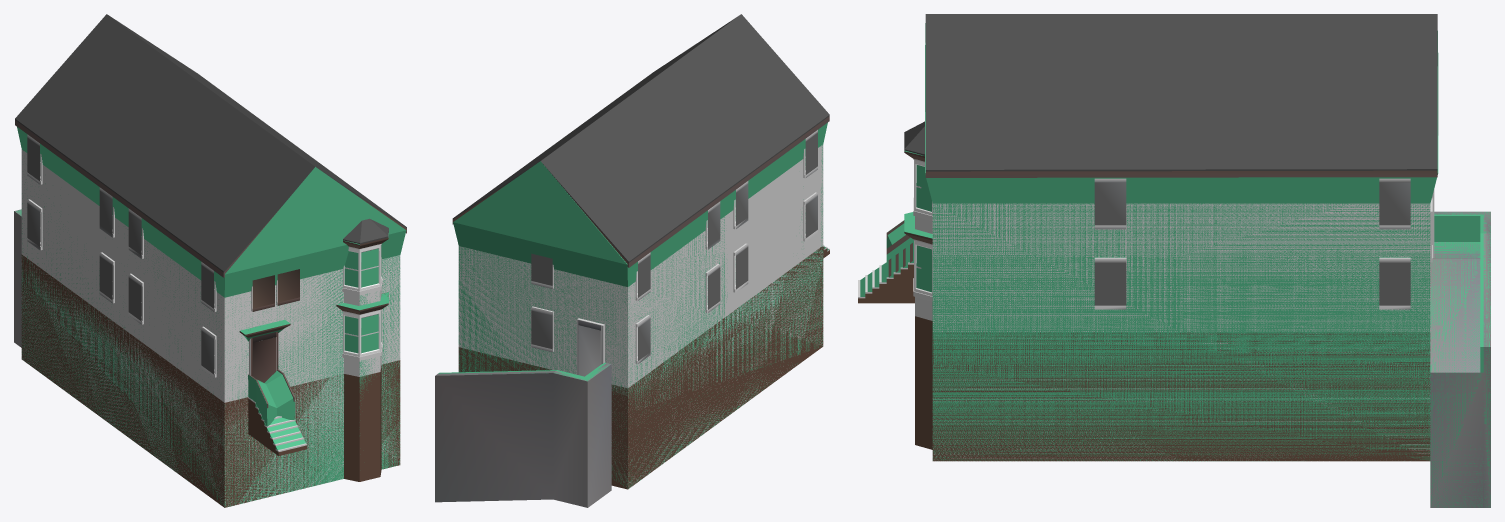
The model's file is eca_bld_house_05_b.dae.
The picture shows the model from 3 angles, left to right: view 1: azimuth 30°, elevation 25°; view 2: azimuth 150°, elevation 25°; view 3: azimuth 270°, elevation 25°; orthographic projection. The views are drawn at different scales.
Parts seen in each view (by area): view 1: ind_bld_a100, Colmesh-1, ind_bld_a60, ind_bld_a400; view 2: ind_bld_a100, Colmesh-1, ind_bld_a400, ind_bld_a60; view 3: ind_bld_a100, Colmesh-1, ind_bld_a400, ind_bld_a60.
Boxes of the visible parts, bbox=[...] form: ind_bld_a100: bbox=[14, 14, 406, 507]; Colmesh-1: bbox=[14, 127, 406, 507]; ind_bld_a60: bbox=[21, 151, 400, 505]; ind_bld_a400: bbox=[21, 150, 399, 451]; ind_bld_a100: bbox=[435, 14, 829, 507]; Colmesh-1: bbox=[438, 122, 828, 488]; ind_bld_a400: bbox=[459, 145, 829, 386]; ind_bld_a60: bbox=[459, 148, 823, 488]; ind_bld_a100: bbox=[858, 14, 1490, 507]; Colmesh-1: bbox=[860, 23, 1490, 507]; ind_bld_a400: bbox=[858, 159, 1434, 331]; ind_bld_a60: bbox=[933, 204, 1430, 459].
Bounding box in the file's own units: 7.29 × 17.8 × 13.7.
